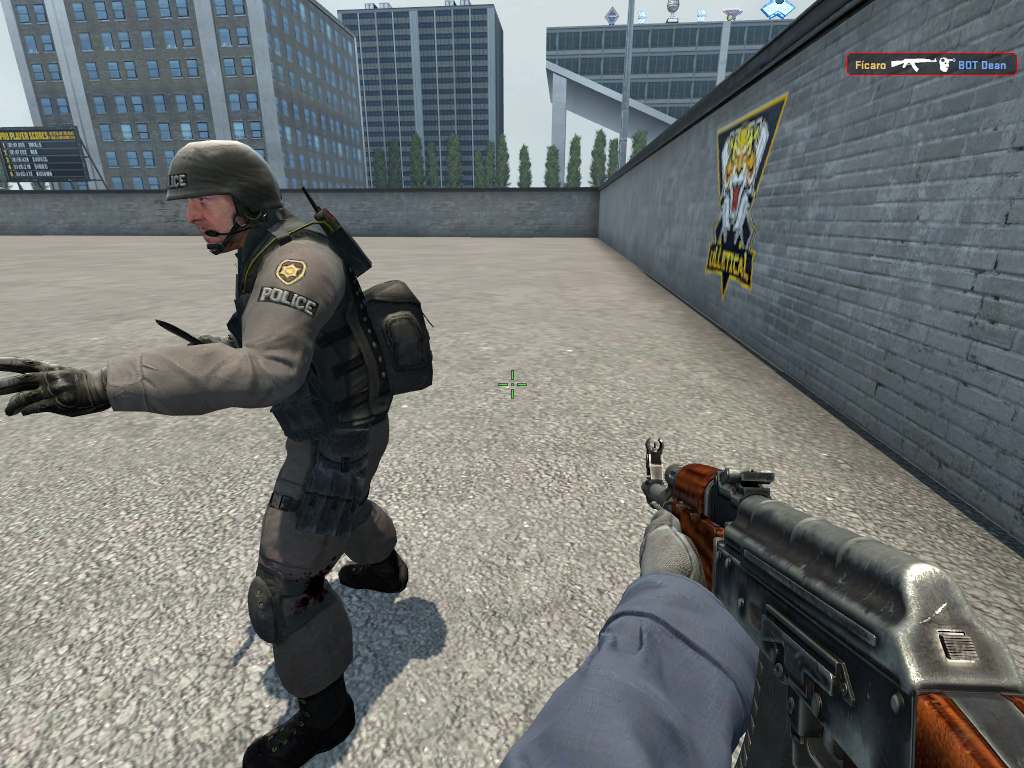ct head: (160, 137, 293, 259)
